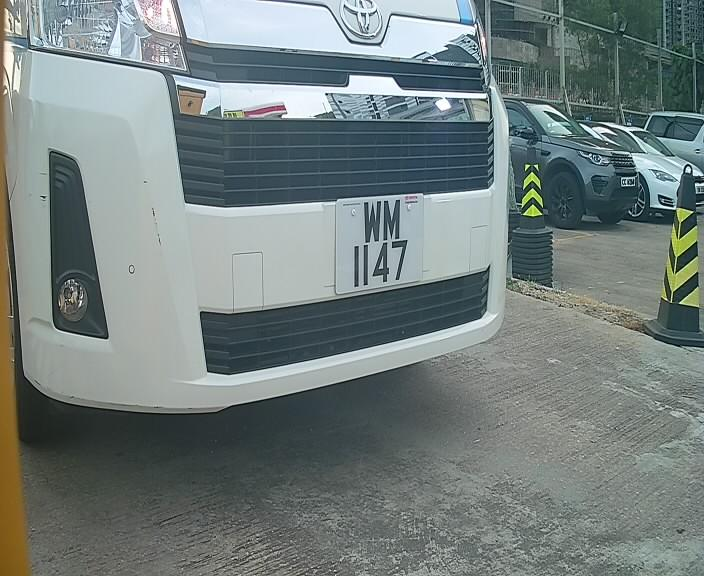License Plate: (324, 178, 431, 309)
